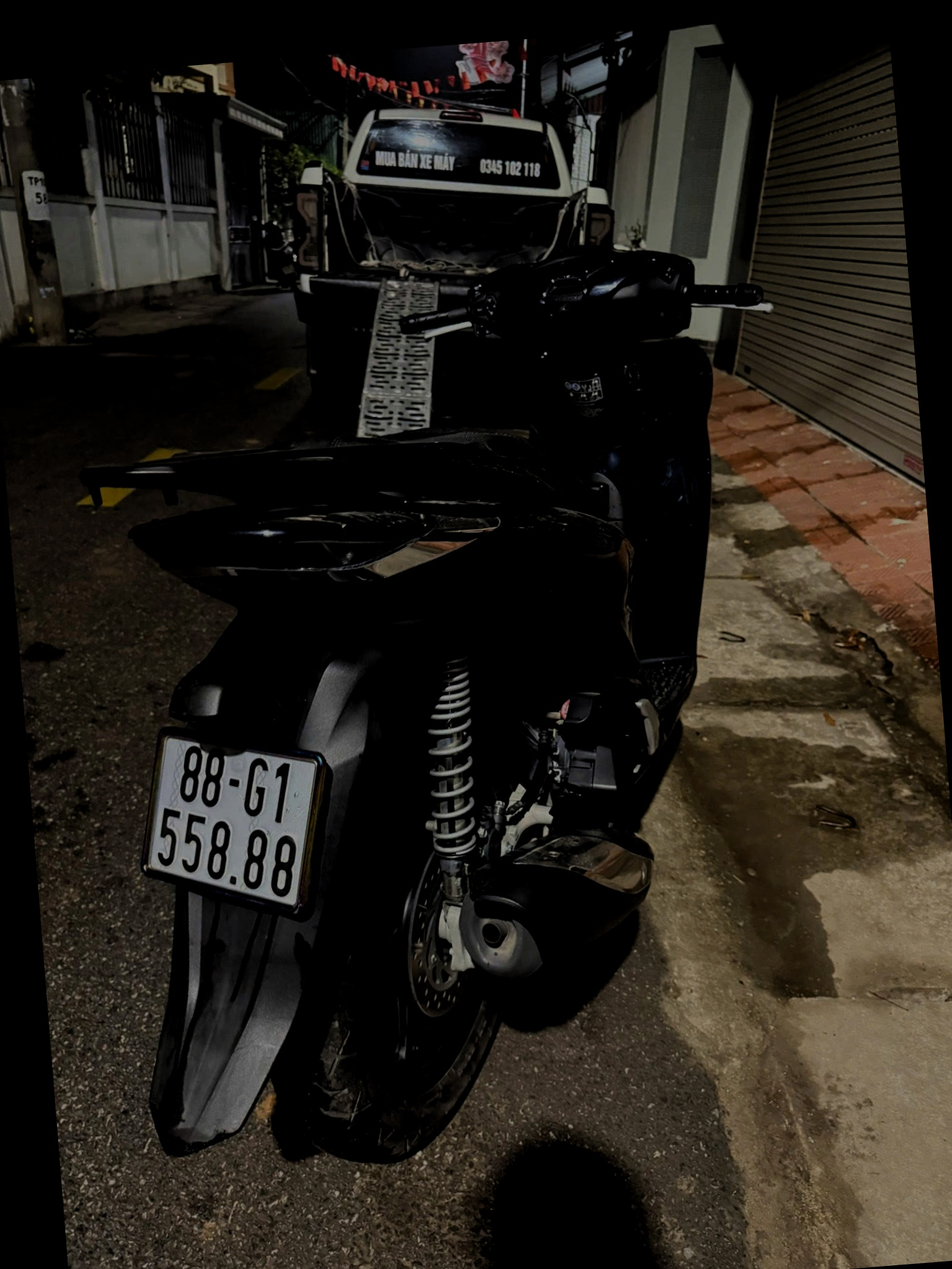Bien-so: (99, 667, 296, 870)
